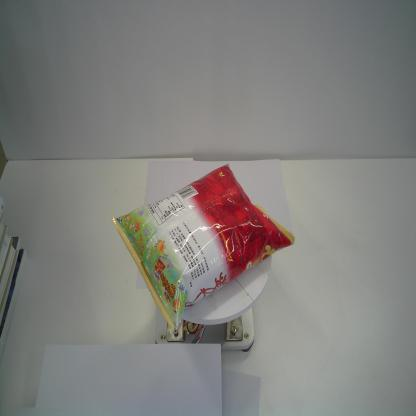Puffed Food: (110, 162, 296, 331)
